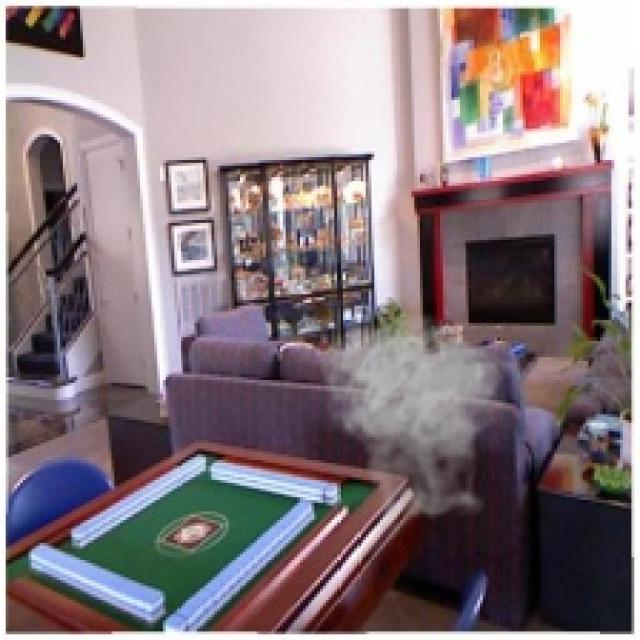smoke: (314, 312, 520, 534)
